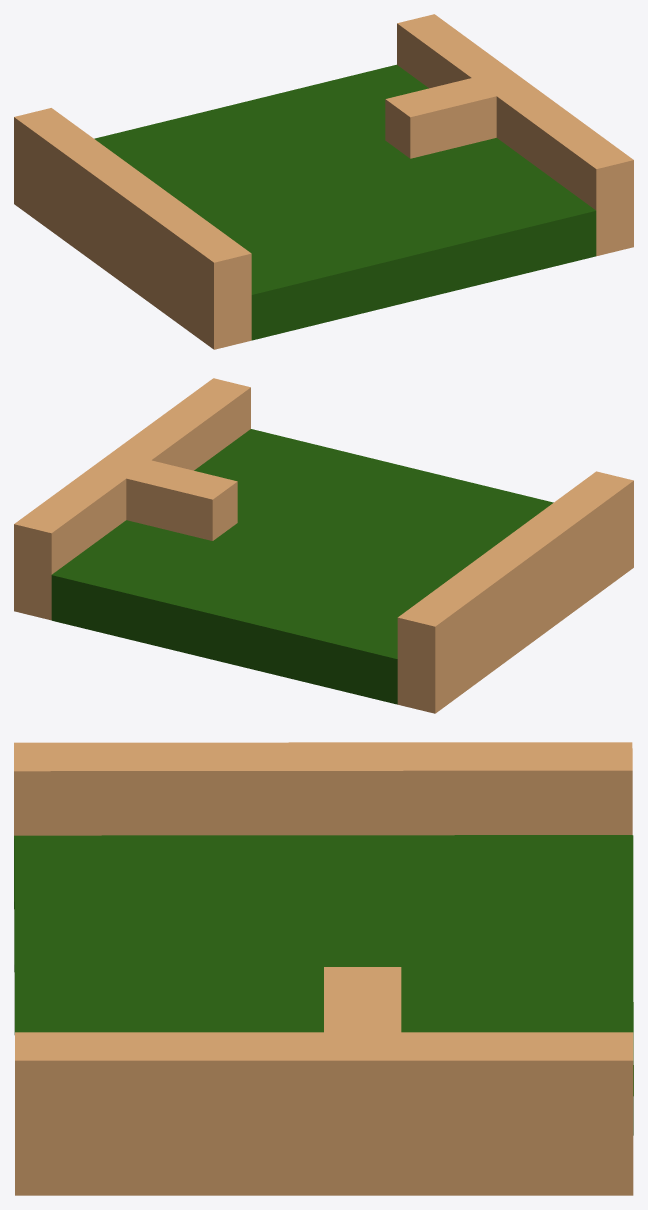
Rendered from NewLego3.fbx.
3 renders of one model, top to bottom at view 1: azimuth 30°, elevation 25°; view 2: azimuth 150°, elevation 25°; view 3: azimuth 270°, elevation 25°, orthographic. The views are drawn at different scales.
Visible parts, largest first — view 1: Cube.067, Cube.062; view 2: Cube.067, Cube.062; view 3: Cube.062, Cube.067.
Part boxes in pixels (box(x1,y1,x2,y2)): Cube.067: box(94, 64, 596, 340); Cube.062: box(14, 14, 633, 349); Cube.067: box(51, 429, 553, 704); Cube.062: box(14, 378, 633, 713); Cube.062: box(14, 742, 633, 1195); Cube.067: box(14, 835, 633, 1135).
Bounding box in the file's own units: 220 × 43.6 × 181.
